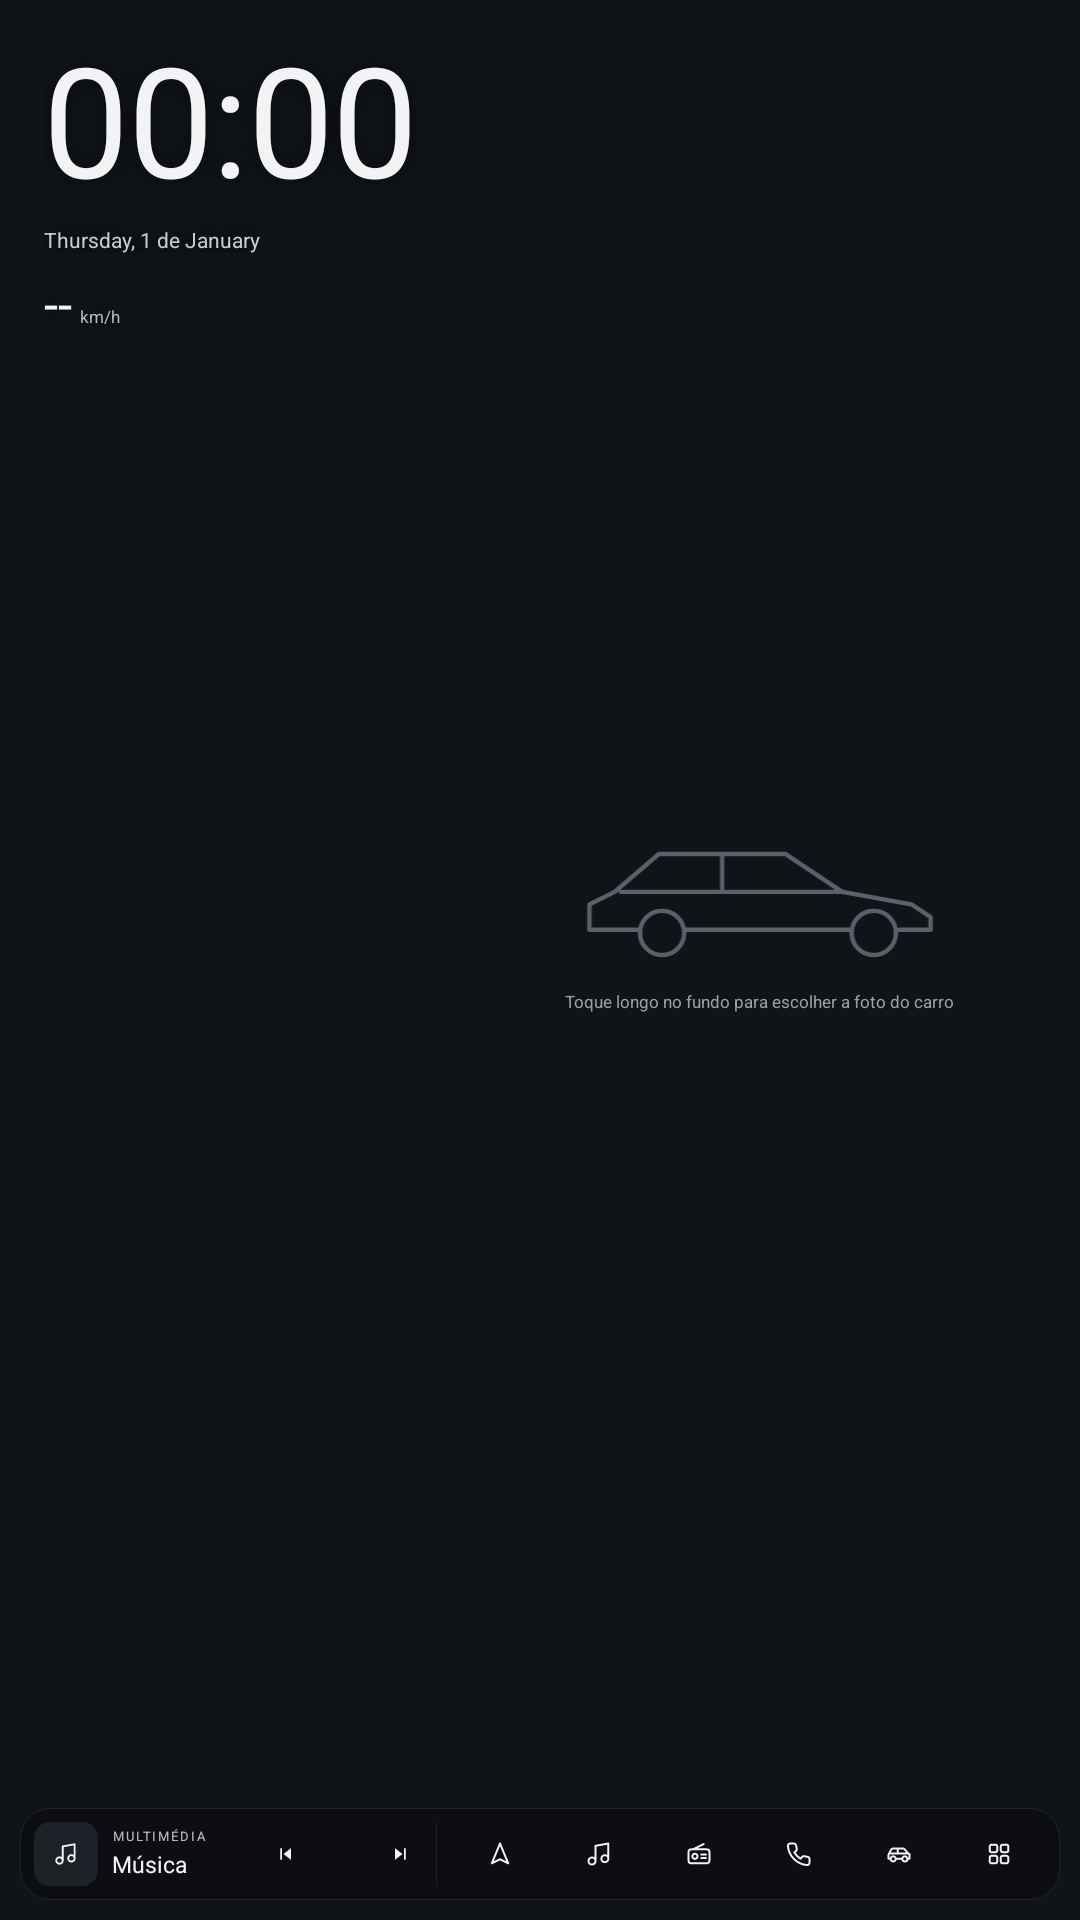

Icon bounding boxes for this 1080px x 1920px phone screenshot, format (x1, y1, x2, y2):
car: (587, 852, 933, 957)
Carro: (887, 1847, 911, 1863)
Música: (587, 1842, 610, 1866)
Rádio: (687, 1843, 711, 1865)
Telefone: (787, 1842, 811, 1866)
